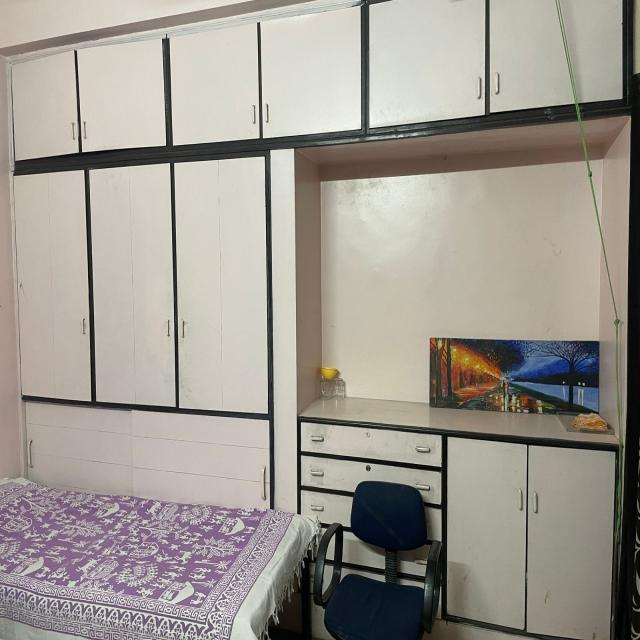Non_Damaged: (0, 9, 616, 640)
